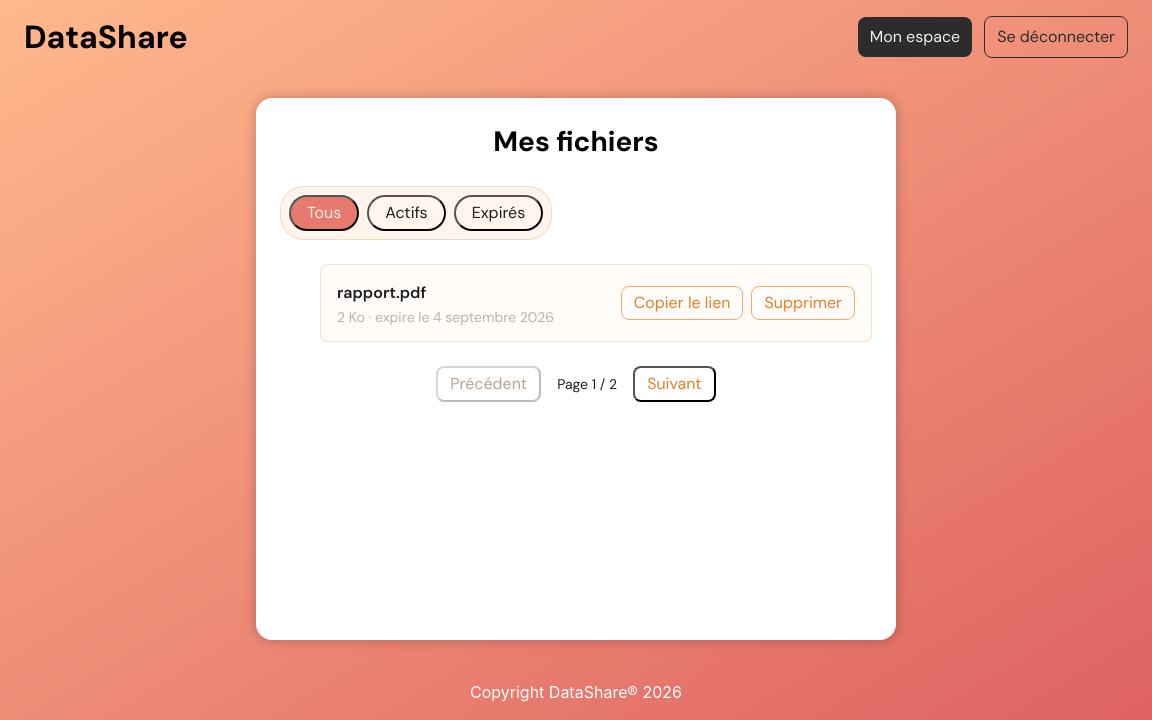
Test: MyFilesView › demande la page suivante quand elle est disponible
Click the button "Suivant" at (674, 384), box [633,366,716,402]
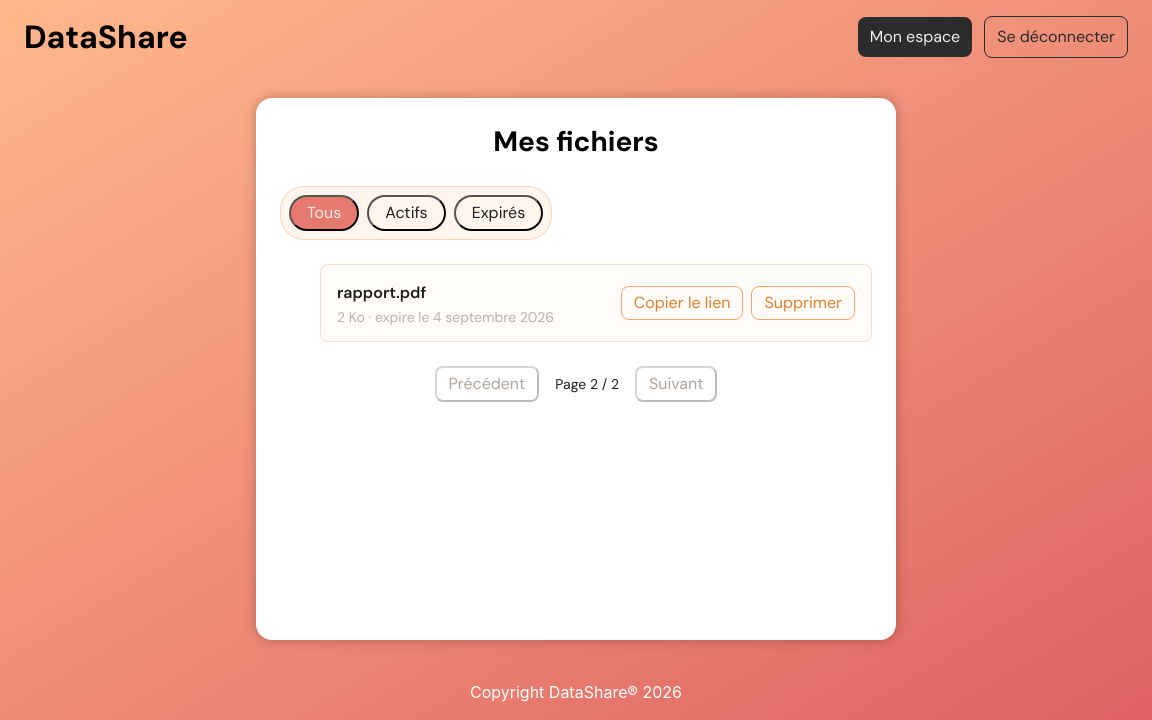
Check: the text "Page 2 / 2" is shown, box [555,376,619,392]
